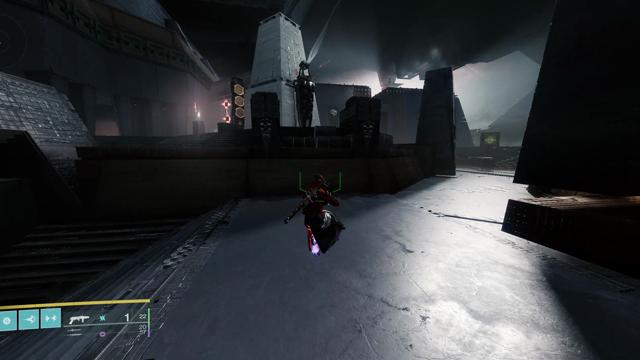brain: (329, 108, 338, 117)
